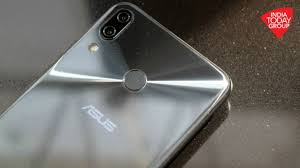asus: (1, 3, 232, 168)
